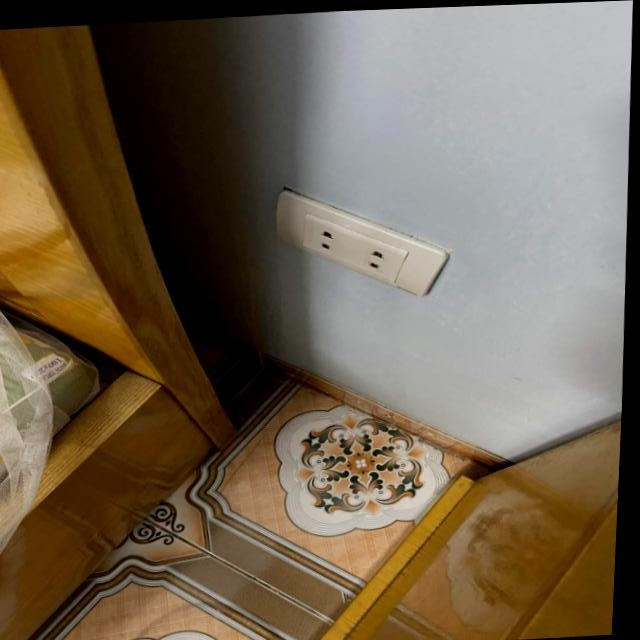outlet: (272, 178, 455, 305)
